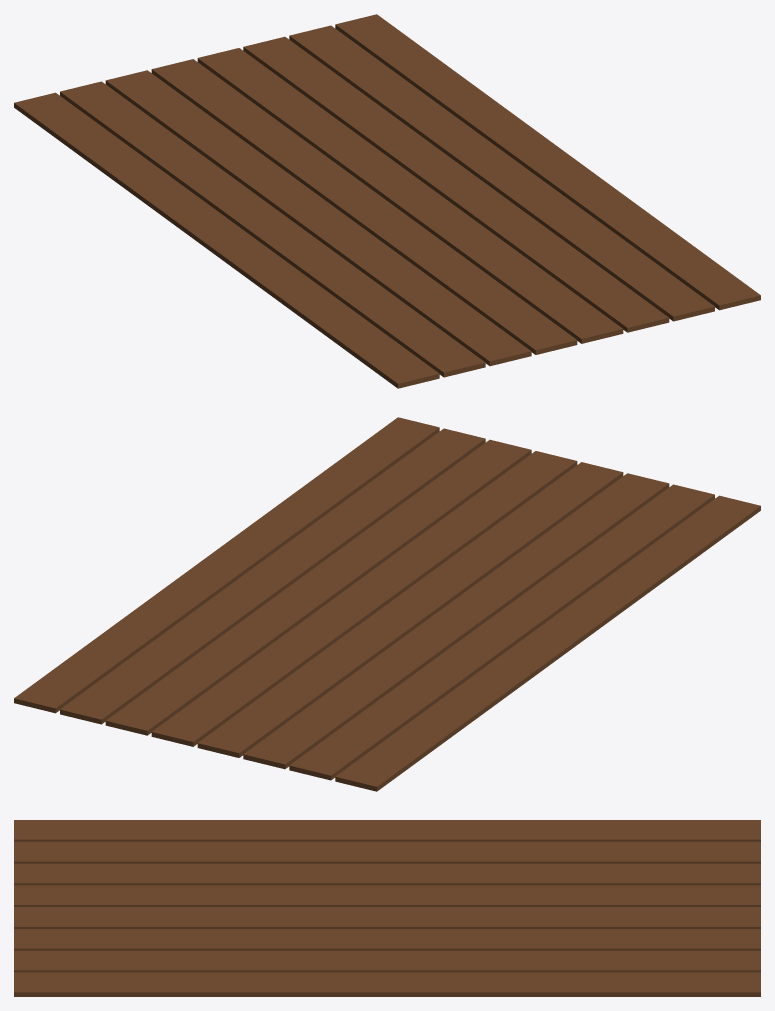
File: Floor wood3.fbx
3 renders of one model, top to bottom at view 1: azimuth 30°, elevation 25°; view 2: azimuth 150°, elevation 25°; view 3: azimuth 270°, elevation 25°, orthographic. The views are drawn at different scales.
Parts seen in each view (by area): view 1: Floor wood3.001; view 2: Floor wood3.001; view 3: Floor wood3.001.
Part boxes in pixels (<box>): Floor wood3.001: <box>14,14,760,388</box>; Floor wood3.001: <box>14,417,760,791</box>; Floor wood3.001: <box>14,820,760,996</box>.
Size of the model in its own units: 4.71 by 0.0603 by 8.64.
